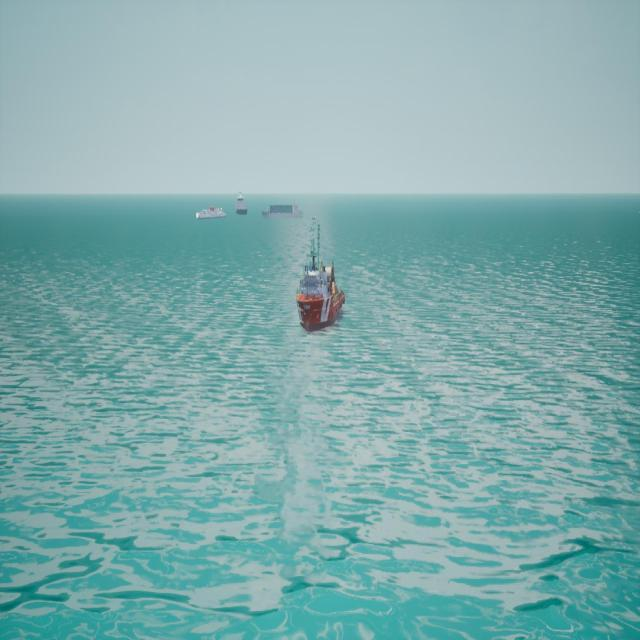tug boat: (296, 214, 345, 336)
